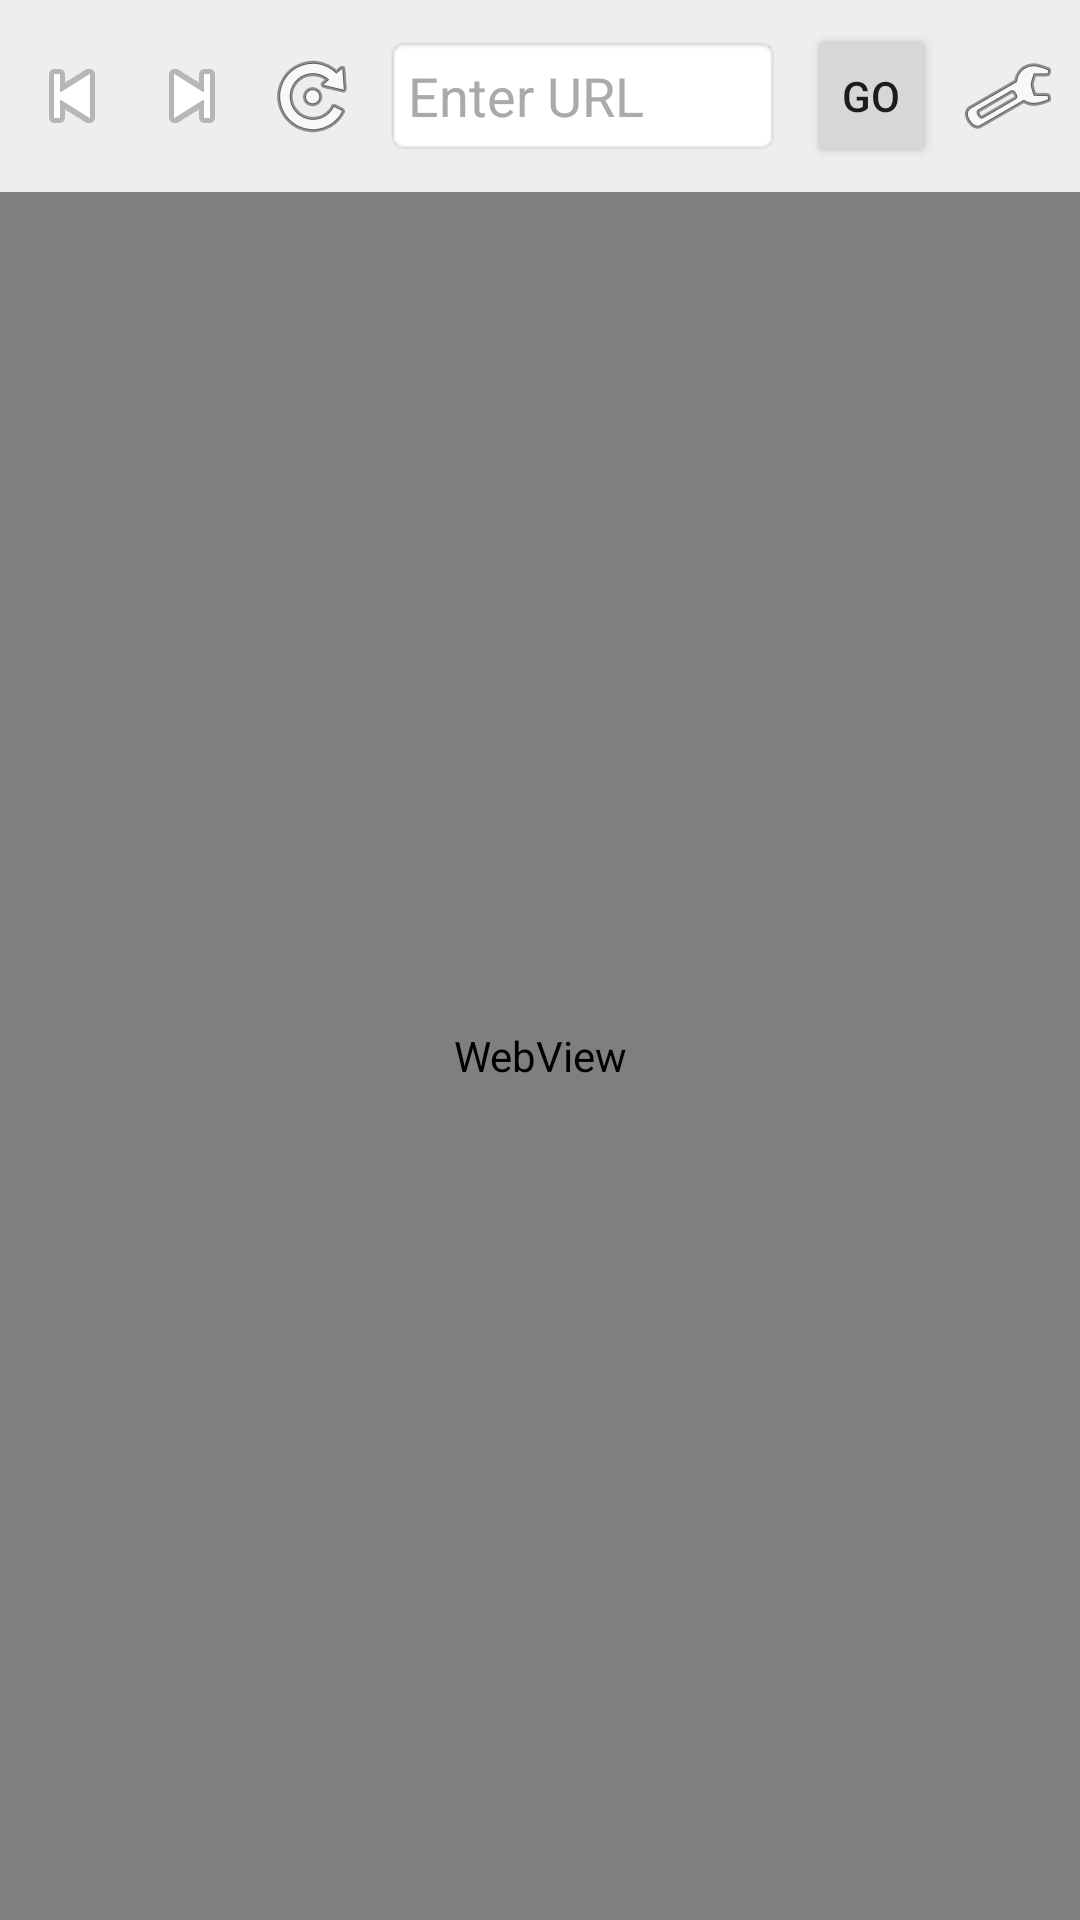

Screen size 1080*1920. Icon name, then its center in pixels as [x,y]:
Back: [72,96]
Forward: [192,96]
Refresh: [312,96]
Settings: [1008,96]
